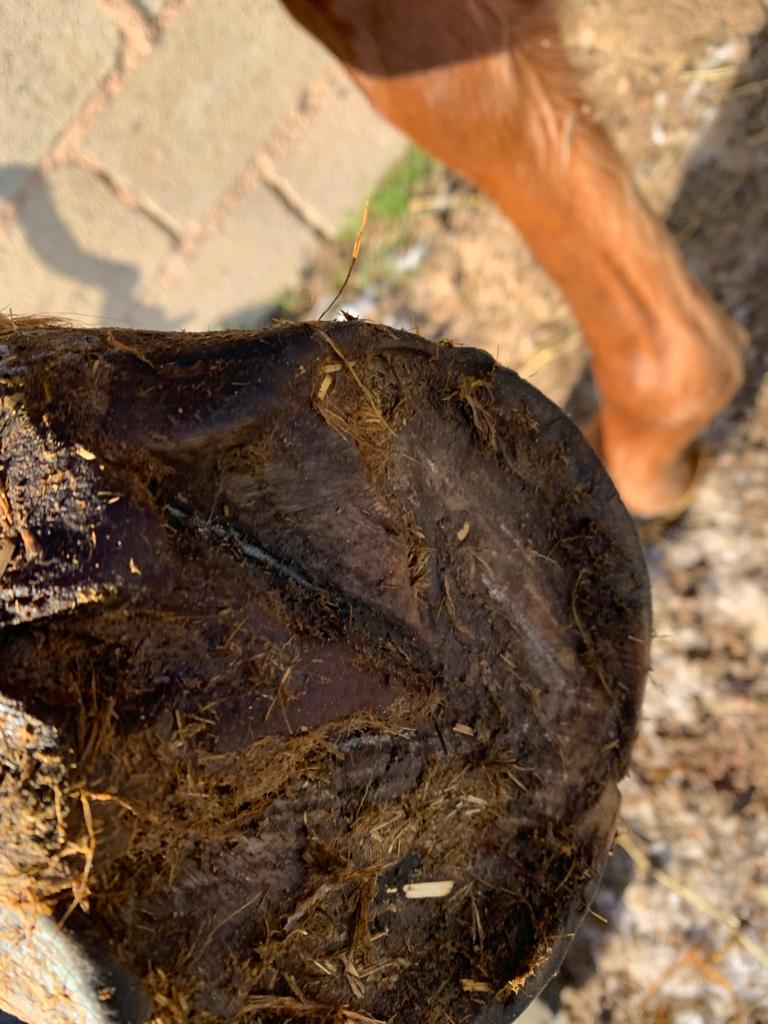horsesole: (49, 319, 652, 1024)
